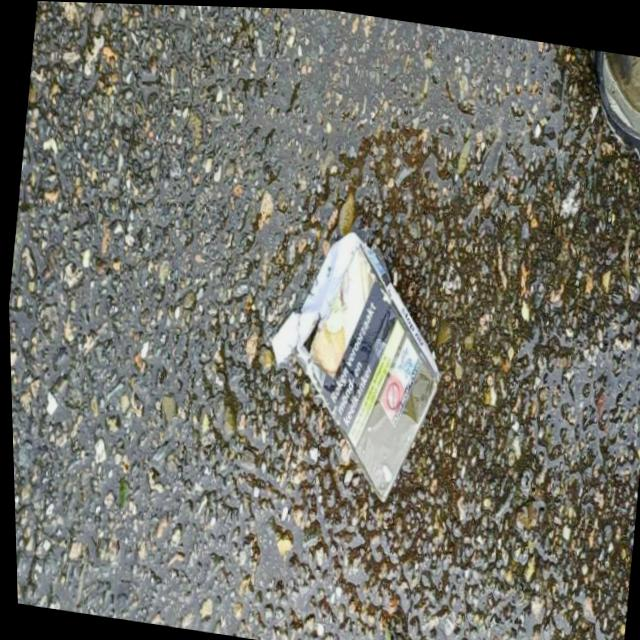Paper: (247, 216, 460, 513)
